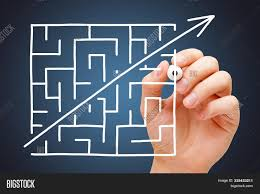maze: (29, 22, 176, 157)
